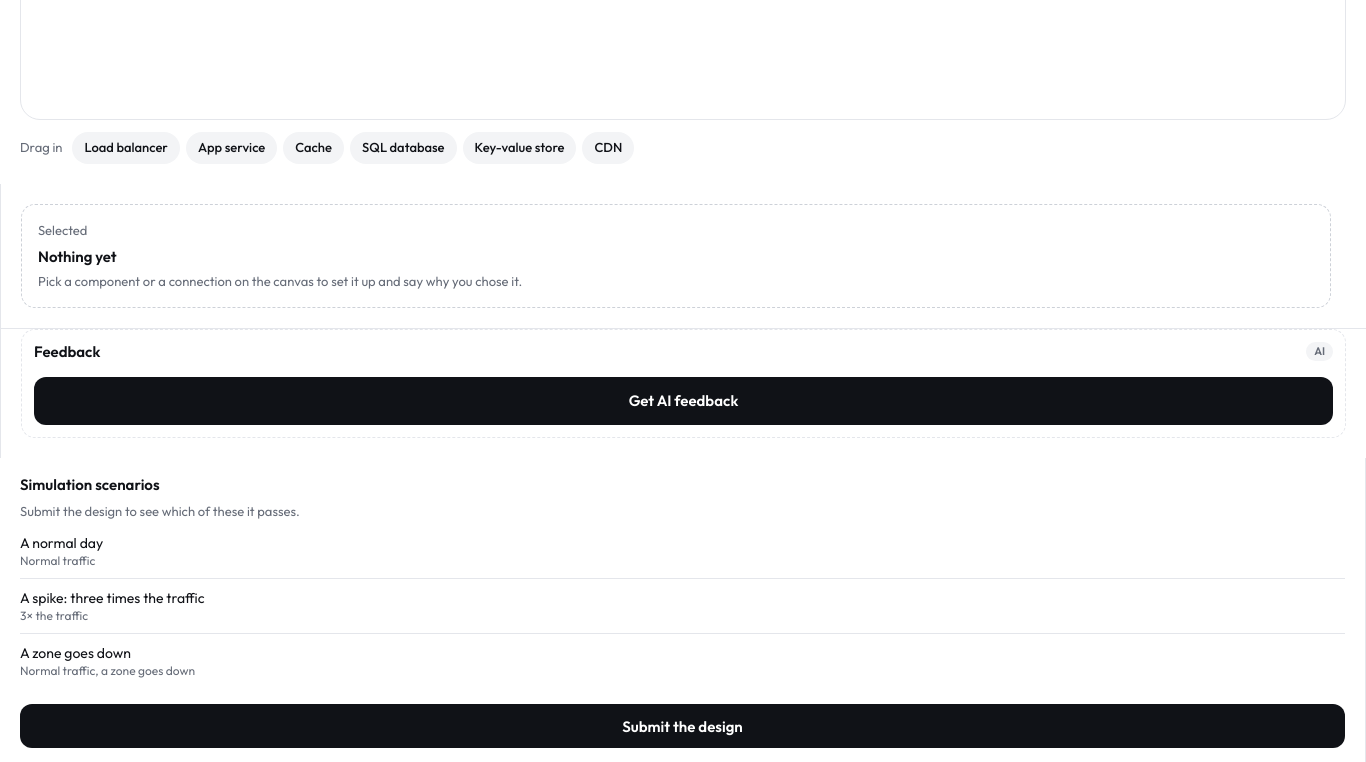
Test: practice: a submit shows what passed and failed, with coverage and hints; an edit hides them
(page scrolled)
Click the button "Submit the design".
click(682, 726)  # box x1=20 y1=704 x2=1345 y2=748
(page scrolled)
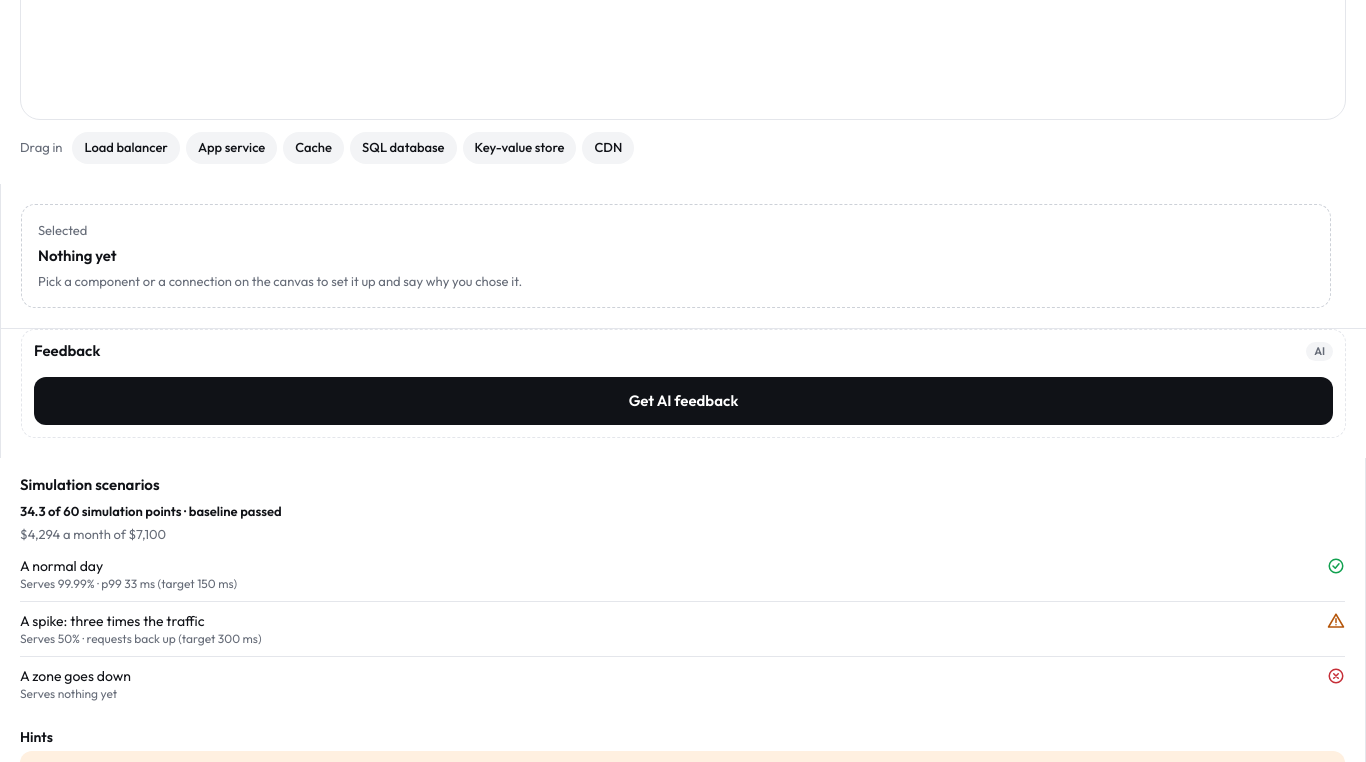
Check: the text "of 60 simulation points" is shown, box x1=46 y1=503 x2=186 y2=519
Check: the text "Hints" is shown, box x1=20 y1=728 x2=53 y2=746
Any edit, here a component added, and the verdicts wait for the next submit.
Click the button "Cache".
click(314, 148)  # box x1=283 y1=132 x2=344 y2=164
(page scrolled)
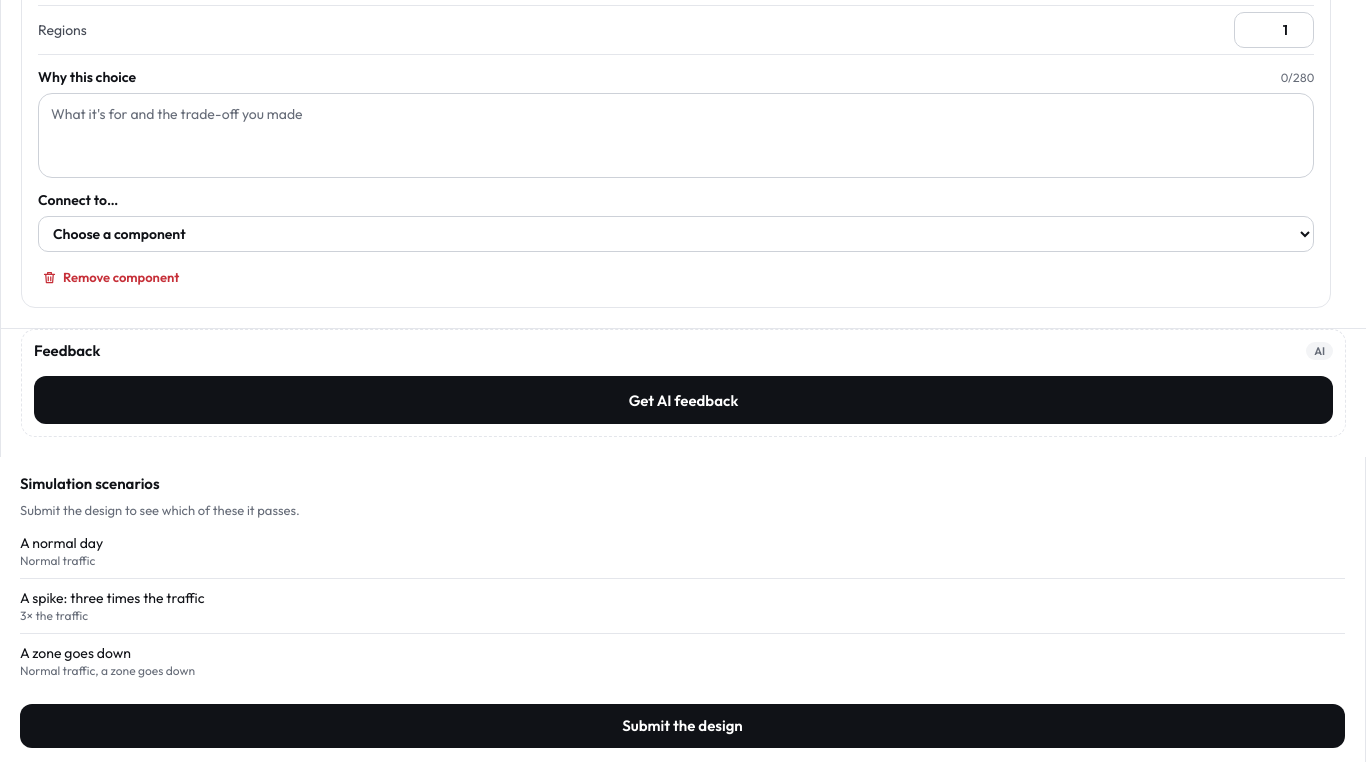
Check: the text "simulation points" is gone
Check: the text "Hints" is gone
As often as the player likes.
Click the button "Submit the design".
click(682, 726)  # box x1=20 y1=704 x2=1345 y2=748
(page scrolled)
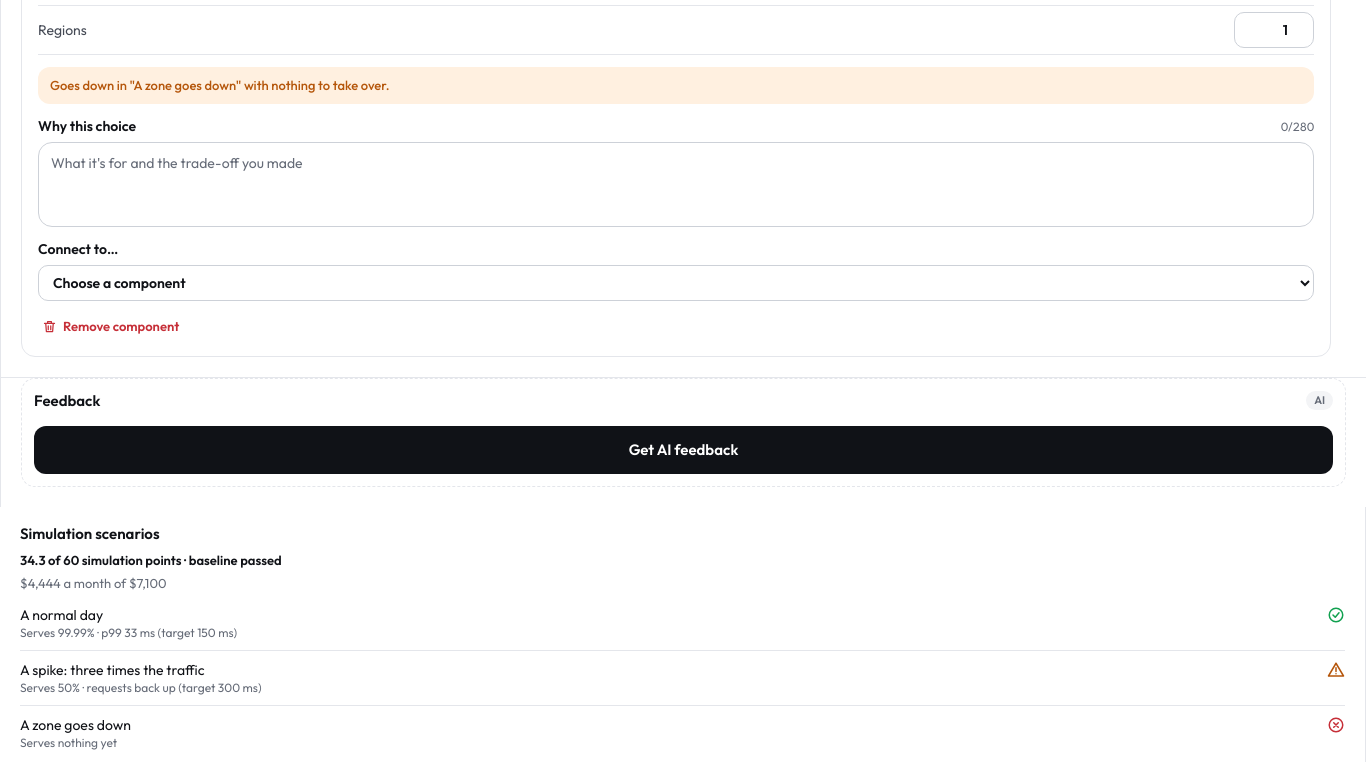
Check: the text "of 60 simulation points" is shown, box x1=46 y1=552 x2=186 y2=568
